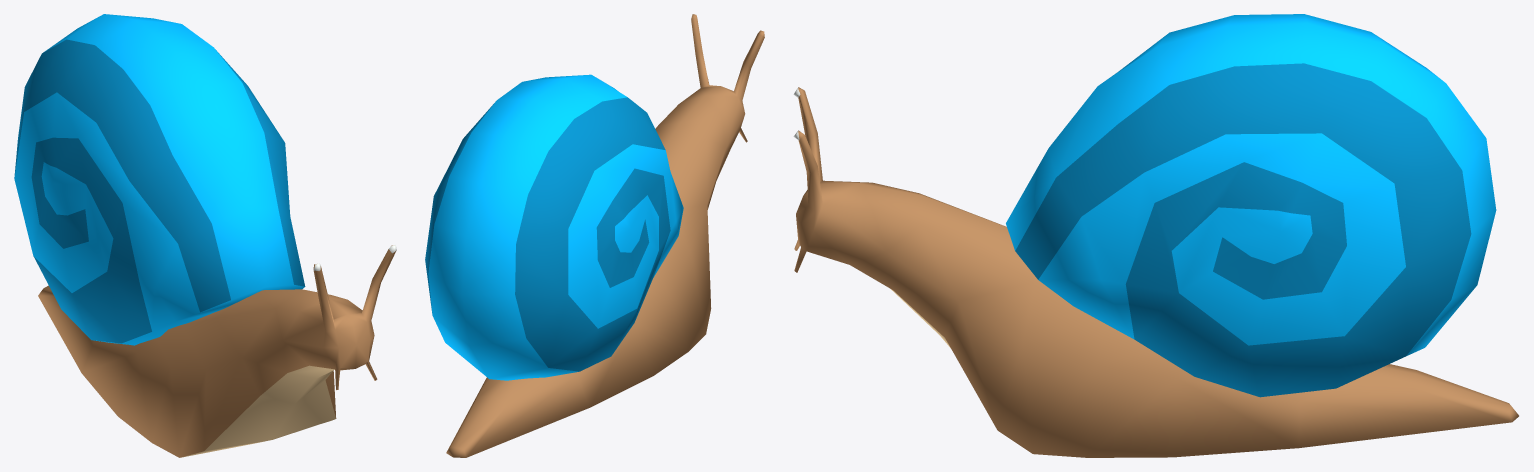
The model's file is Snail02.glb.
The picture shows the model from 3 angles, left to right: view 1: azimuth 30°, elevation 25°; view 2: azimuth 150°, elevation 25°; view 3: azimuth 270°, elevation 25°; orthographic projection. The views are drawn at different scales.
Parts seen in each view (by area): view 1: Snail02; view 2: Snail02; view 3: Snail02.
Boxes of the visible parts, x1,y1,x2,y2 form: Snail02: [14, 14, 396, 457]; Snail02: [425, 14, 764, 457]; Snail02: [793, 14, 1518, 457].
Size of what is drawn, in the model's own units: 0.163 by 0.2711 by 0.4546.
Materials: 1 (1 with a texture image).
